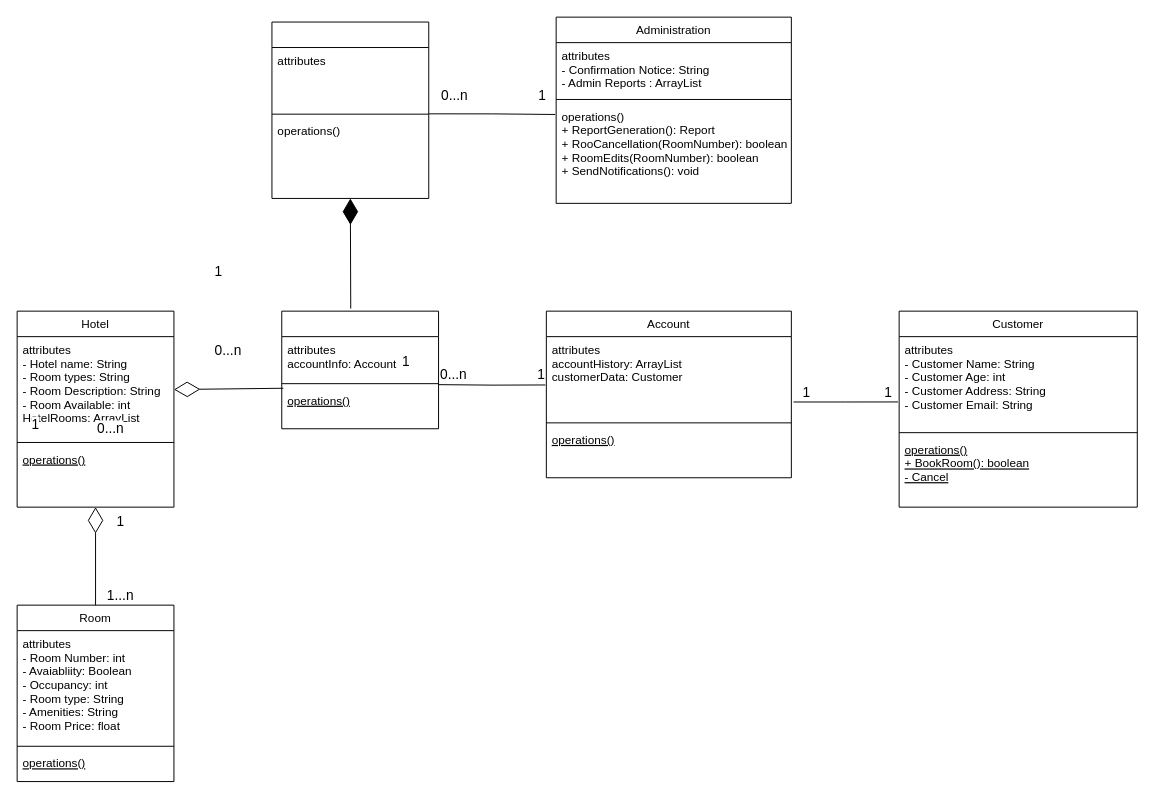
Image size: 1154x799. Some labels were removed from this diagram. The box of each missing label's shape, as (x1, y1, x2, y2) in pixels:
Report: (271, 21, 429, 198)
Reservation: (281, 310, 439, 429)
